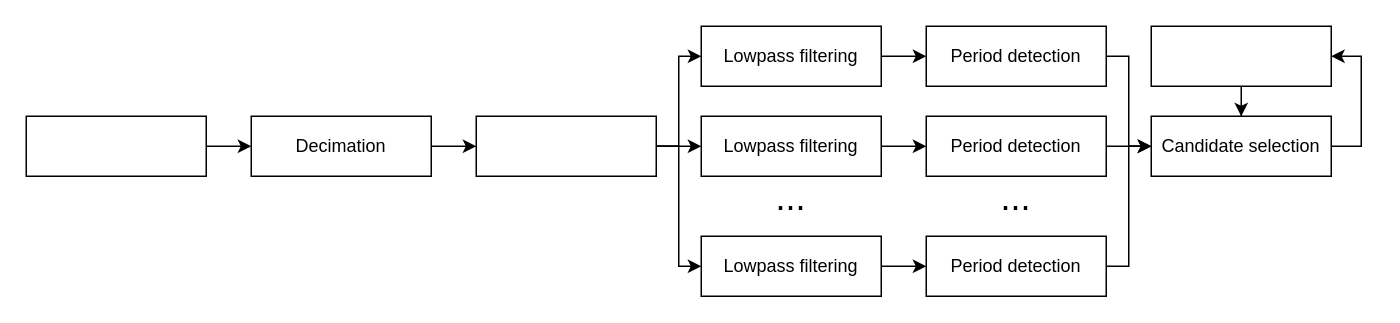
This 1400x323 diagram has some shape labels left out. The centre of each missing label's shape, as x and y in pixels:
"DC removal" goes at point (565, 145).
"Previous estimate" goes at point (1240, 55).
"Speech frame" goes at point (115, 145).
